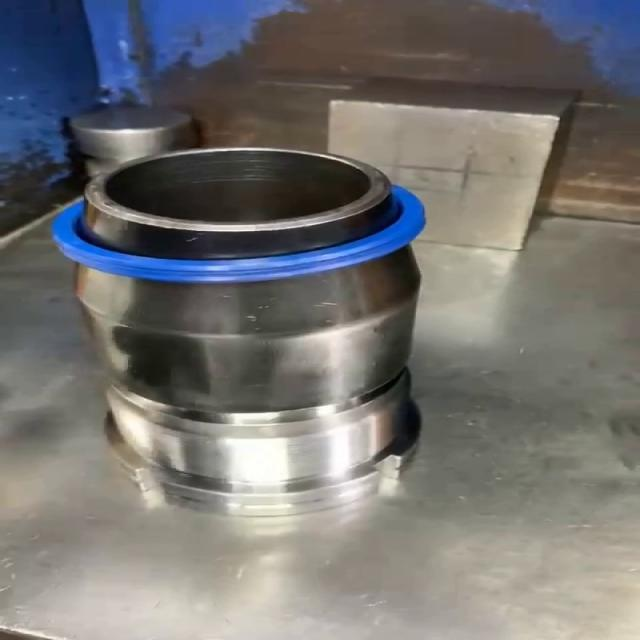purssian-blue-ring: (53, 185, 426, 282)
